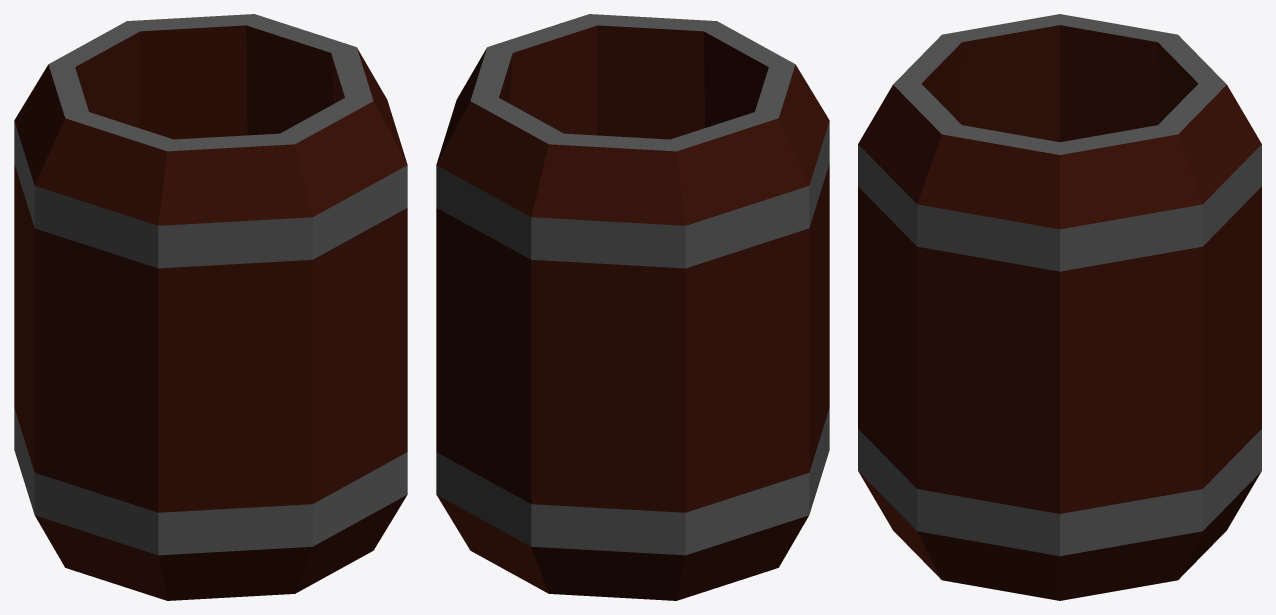
Rendered from barrel_3.obj.
3 views of the same model, side by side, from view 1: azimuth 30°, elevation 25°; view 2: azimuth 150°, elevation 25°; view 3: azimuth 270°, elevation 25° (orthographic).
Visible parts, largest first — view 1: barrel_3; view 2: barrel_3; view 3: barrel_3.
Part boxes in pixels (bbox=[...]): barrel_3: bbox=[14, 14, 407, 600]; barrel_3: bbox=[436, 14, 829, 600]; barrel_3: bbox=[858, 14, 1261, 600].
Size of the model in its own units: 0.285 by 0.3474 by 0.285.
